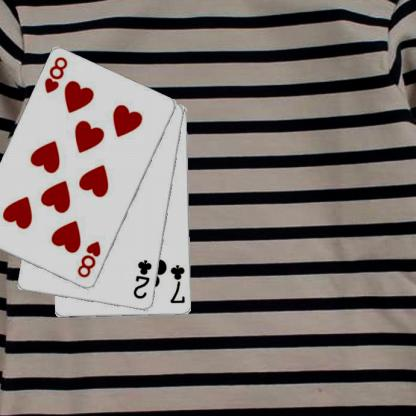2C: (131, 258, 153, 300)
7C: (168, 263, 186, 305)
8H: (75, 238, 102, 280), (42, 54, 68, 95)
